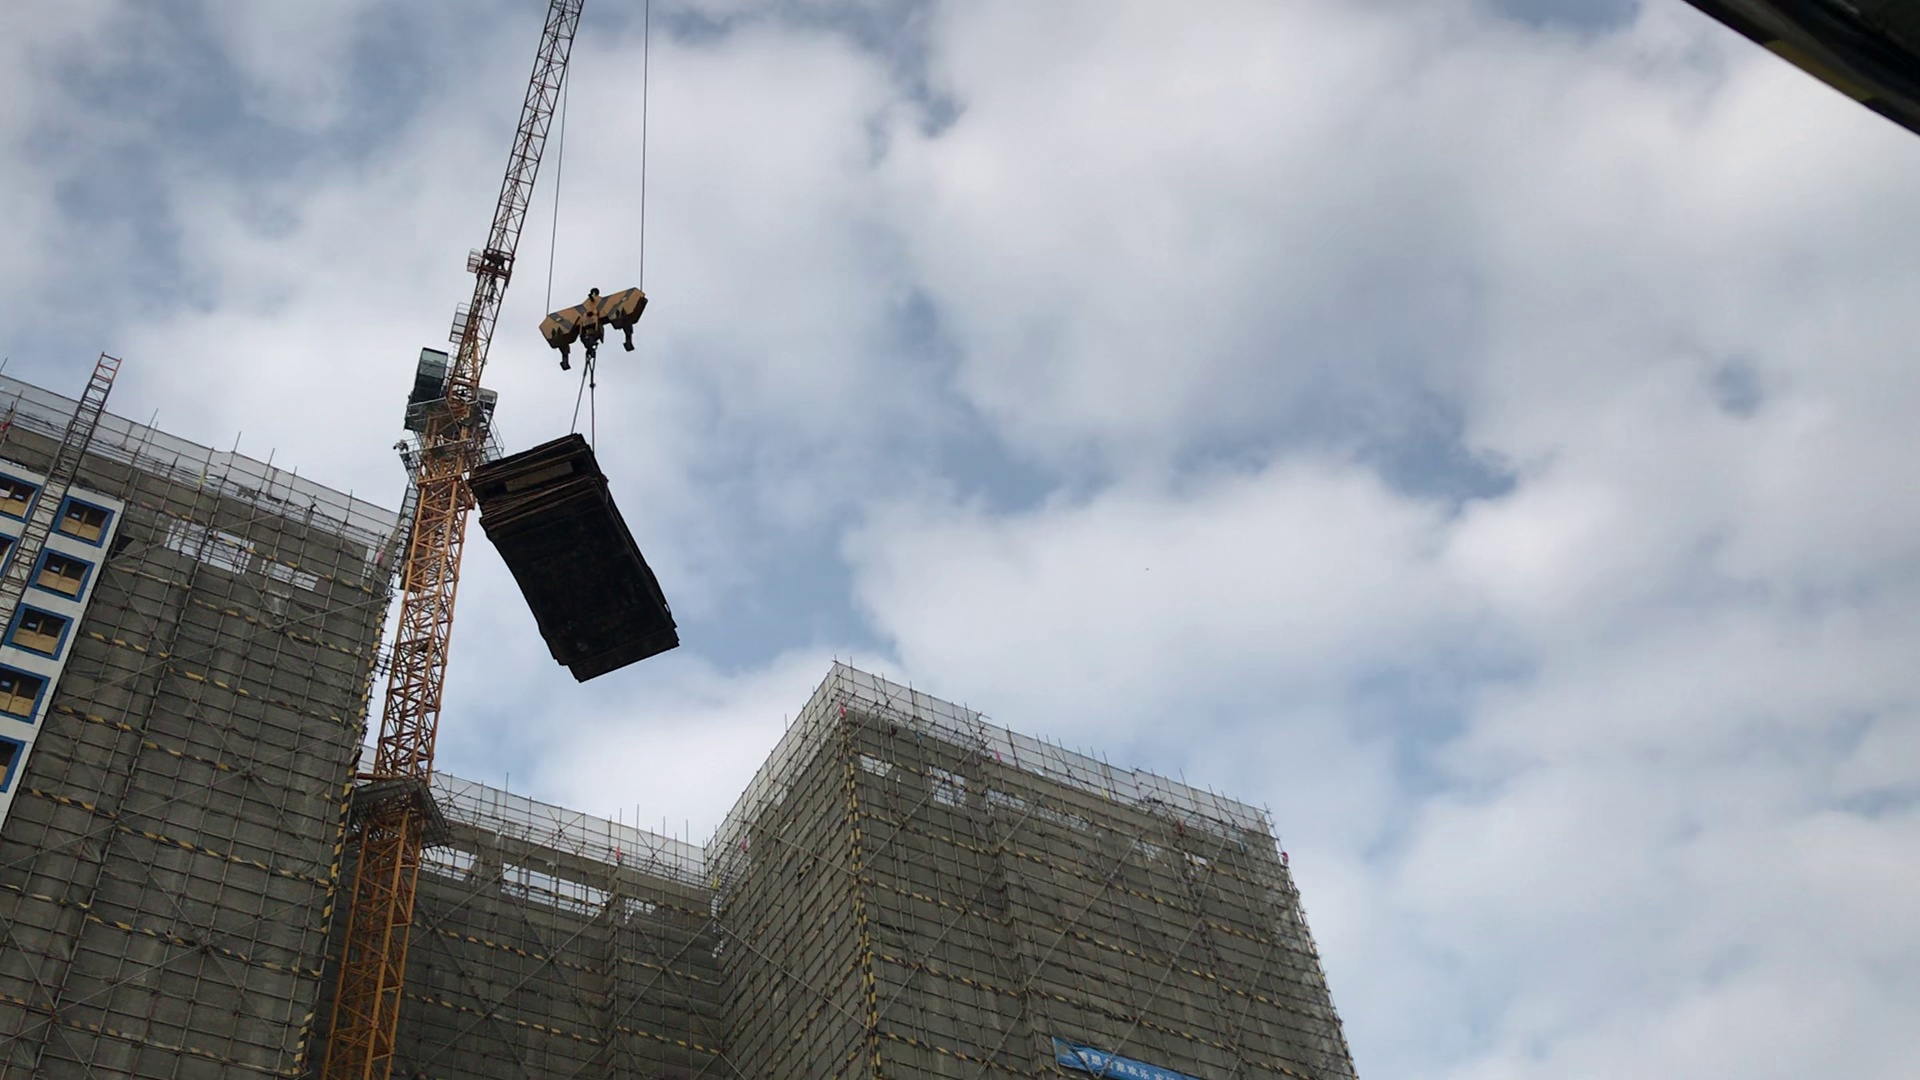board: (463, 431, 678, 682)
hook: (541, 287, 646, 371)
